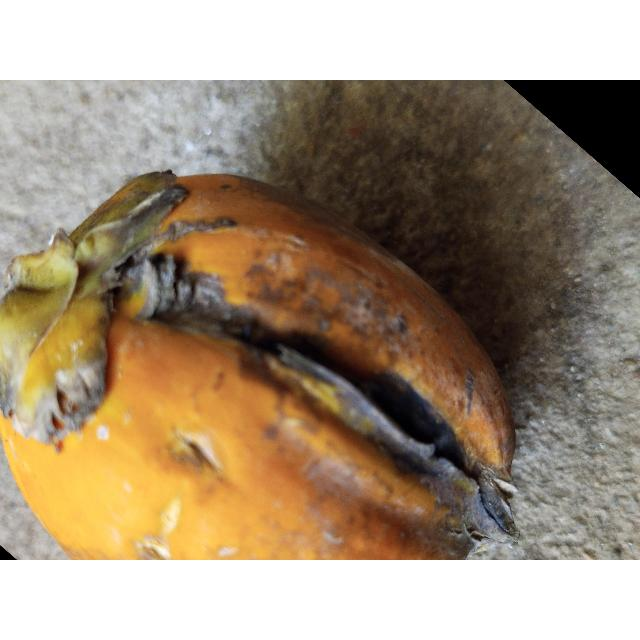damaged: (0, 170, 516, 560)
